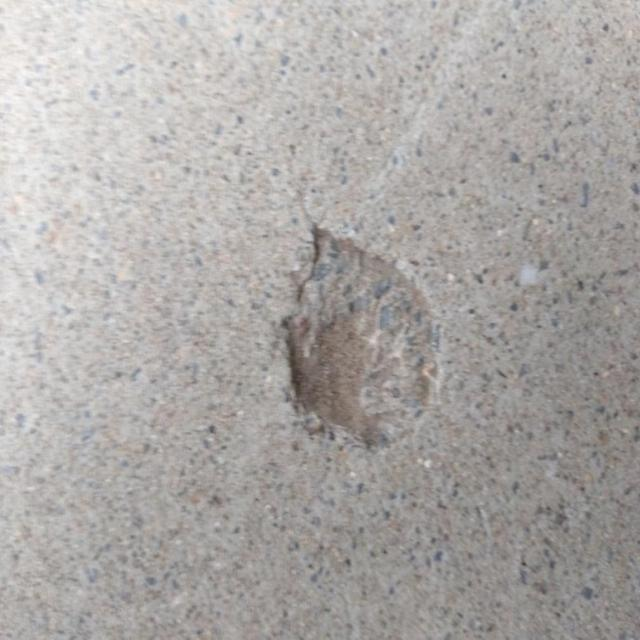concrete spalling: (274, 220, 442, 453)
